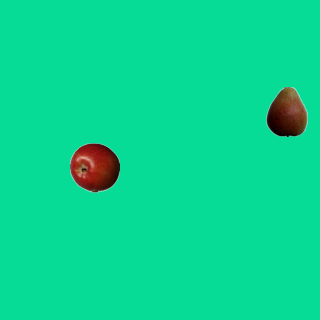Apple Braeburn: (69, 142, 119, 192)
Pear Forelle: (261, 86, 311, 136)
